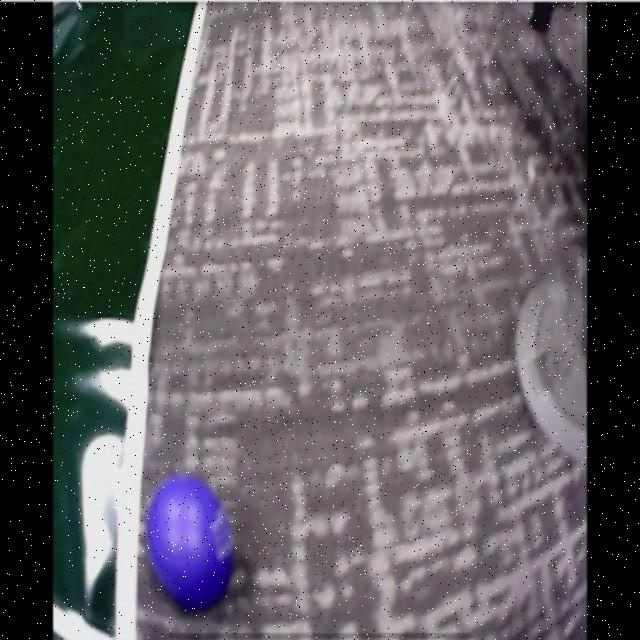ball: (149, 476, 234, 613)
